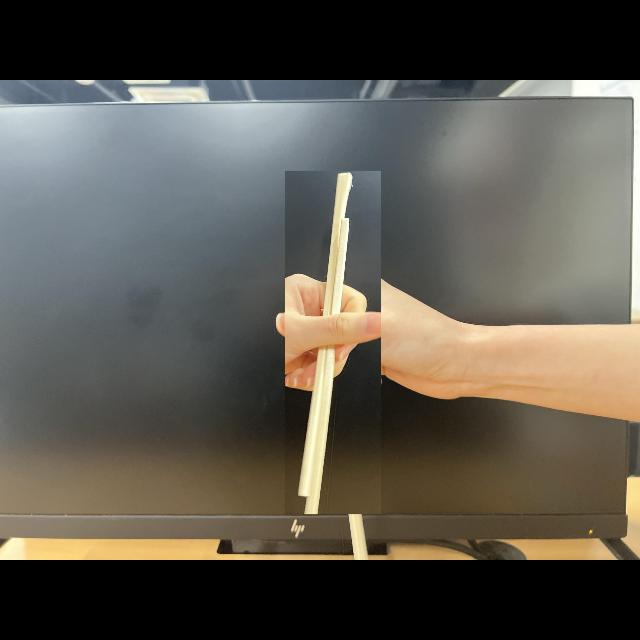stick: (285, 171, 381, 514)
